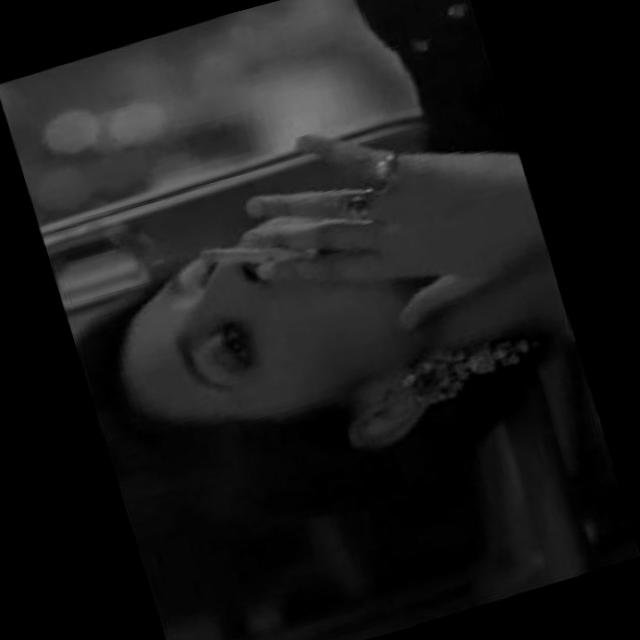smoke: (195, 215, 318, 296)
